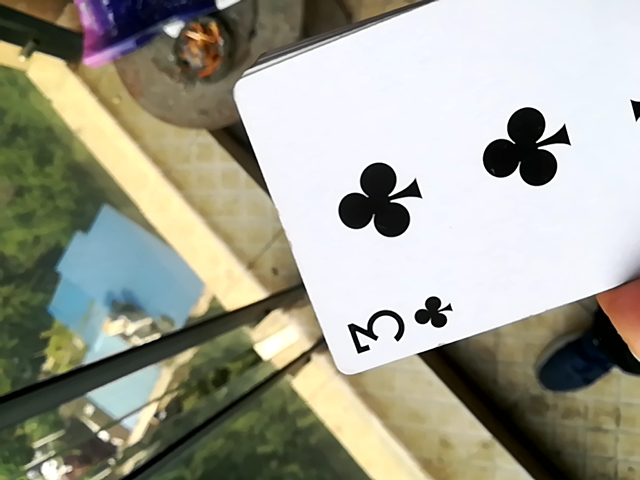mh 3: (231, 2, 638, 379)
